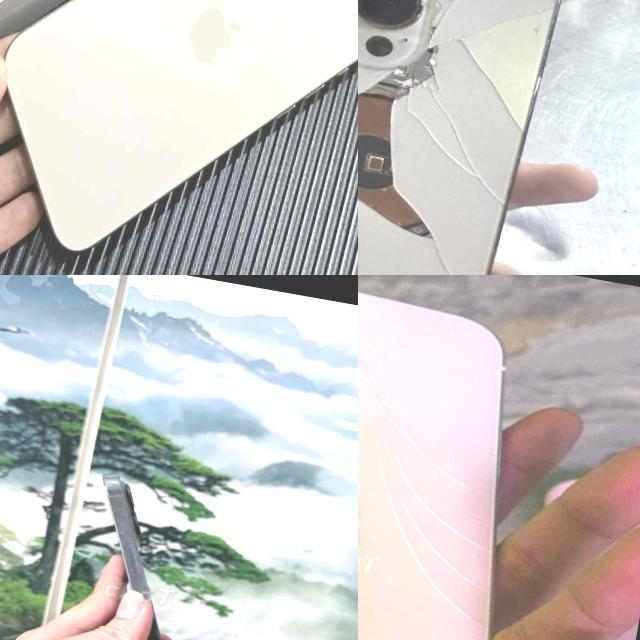gen_12_13: (49, 459, 236, 640)
gen_14: (358, 0, 568, 275)
gen_16: (0, 0, 358, 275)
